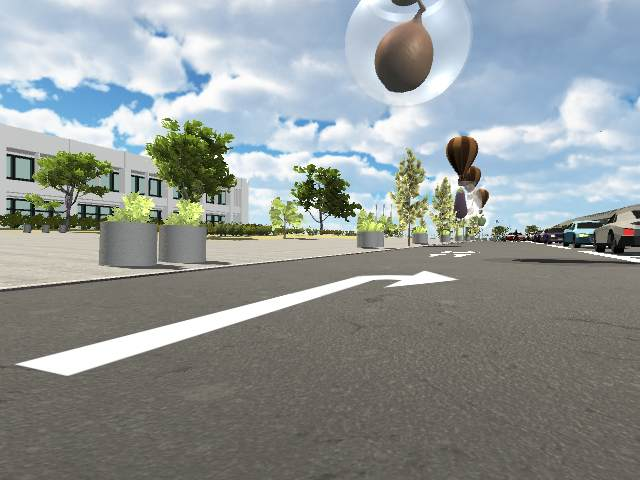ground_right: (326, 267, 462, 289)
